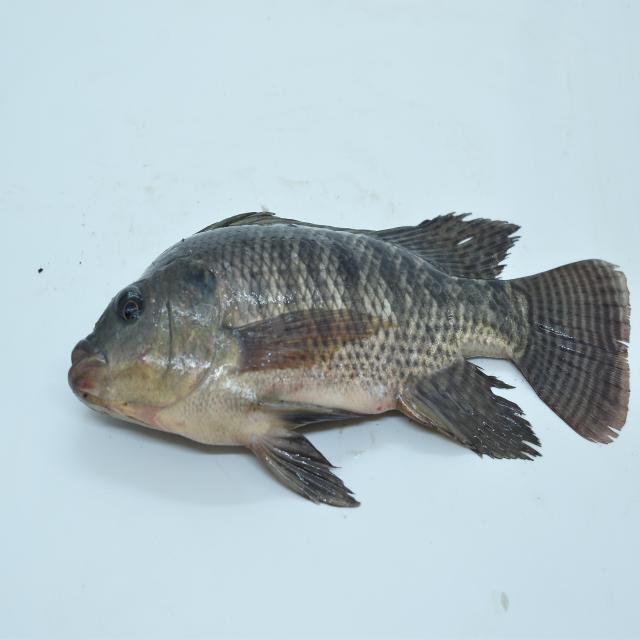Healthy Fish: (64, 206, 635, 513)
